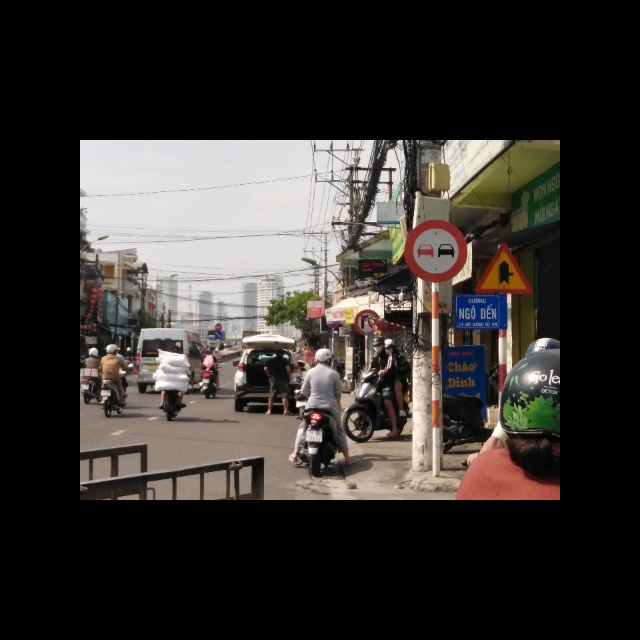Cấm vượt: (403, 217, 468, 283)
Giao nhau với đường không ưu tiên: (475, 238, 534, 294)
